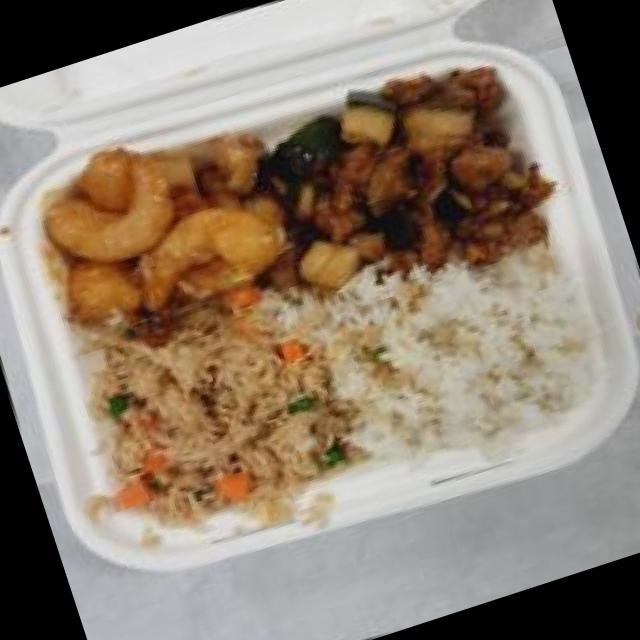Fried Rice: (58, 274, 376, 548)
Honey Walnut Shrimp: (6, 87, 332, 372)
Kung Pao Chicken: (238, 30, 575, 328)
White Steamed Rice: (316, 216, 630, 493)
